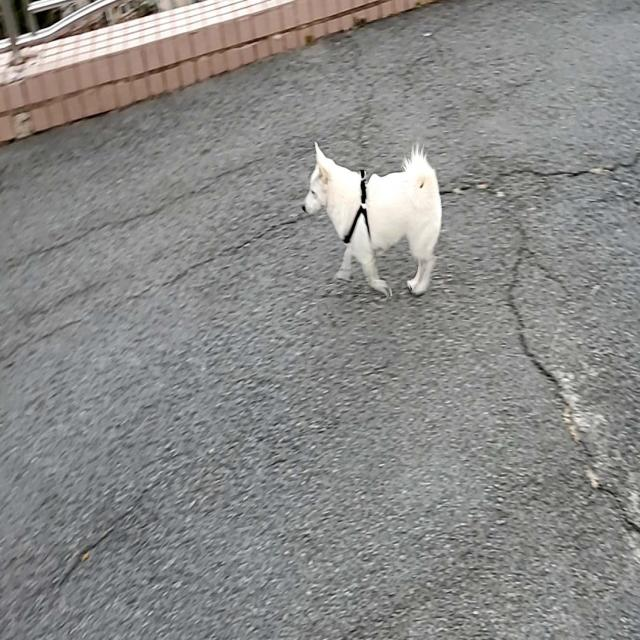Dog: (302, 140, 443, 296)
